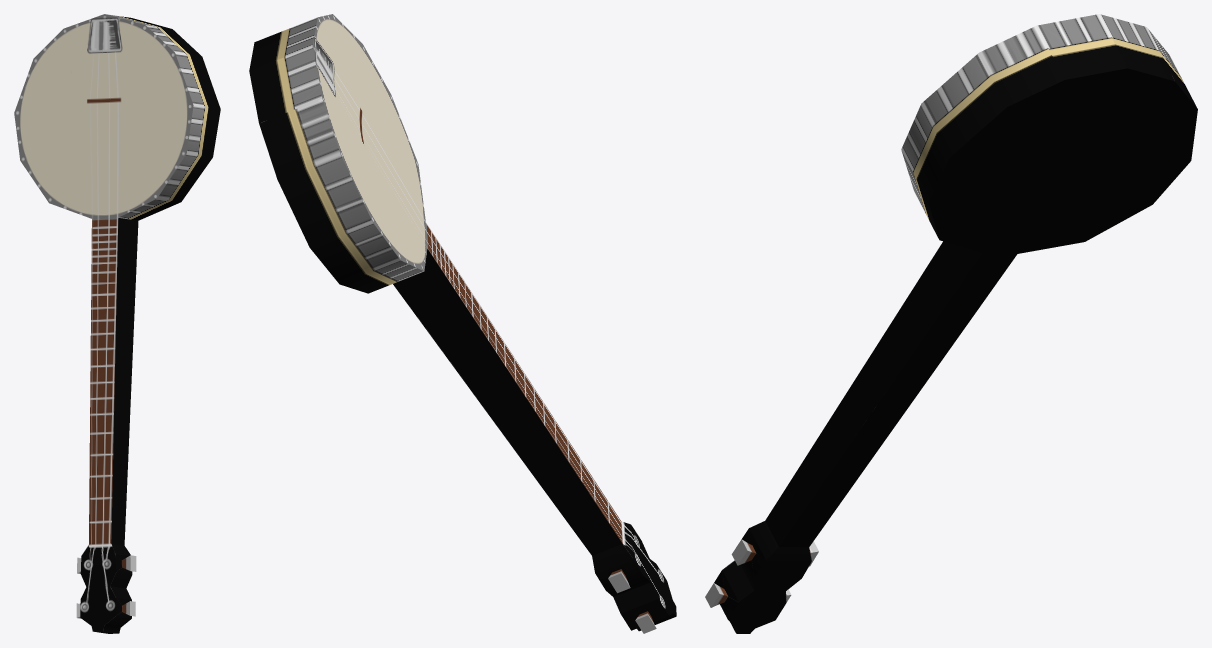
File: guitarra1_000205.obj
3 renders of one model, left to right at view 1: azimuth 30°, elevation 25°; view 2: azimuth 150°, elevation 25°; view 3: azimuth 270°, elevation 25°, orthographic. The views are drawn at different scales.
Parts seen in each view (by area): view 1: g1_pCube6; view 2: g1_pCube6; view 3: g1_pCube6.
Part boxes in pixels (x1=…): g1_pCube6: x1=14, y1=14, x2=220, y2=633; g1_pCube6: x1=249, y1=14, x2=676, y2=633; g1_pCube6: x1=705, y1=14, x2=1197, y2=633.
Size of the model in its own units: 5.24 by 11.92 by 7.57.
